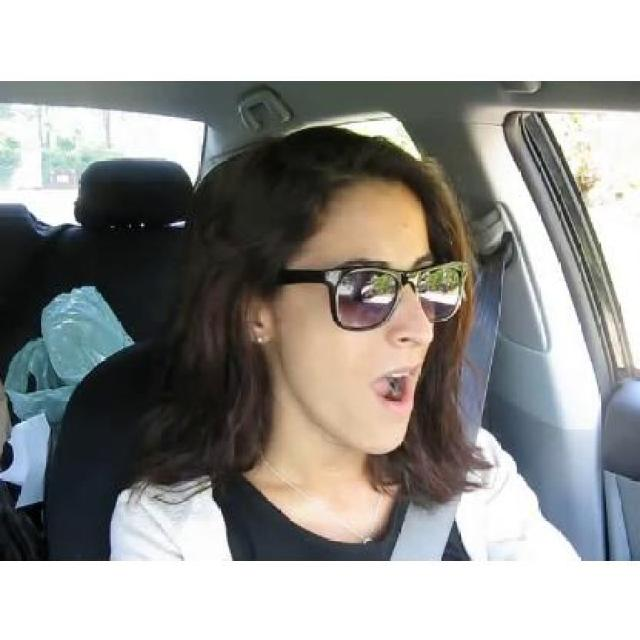inattentif: (231, 127, 437, 456)
